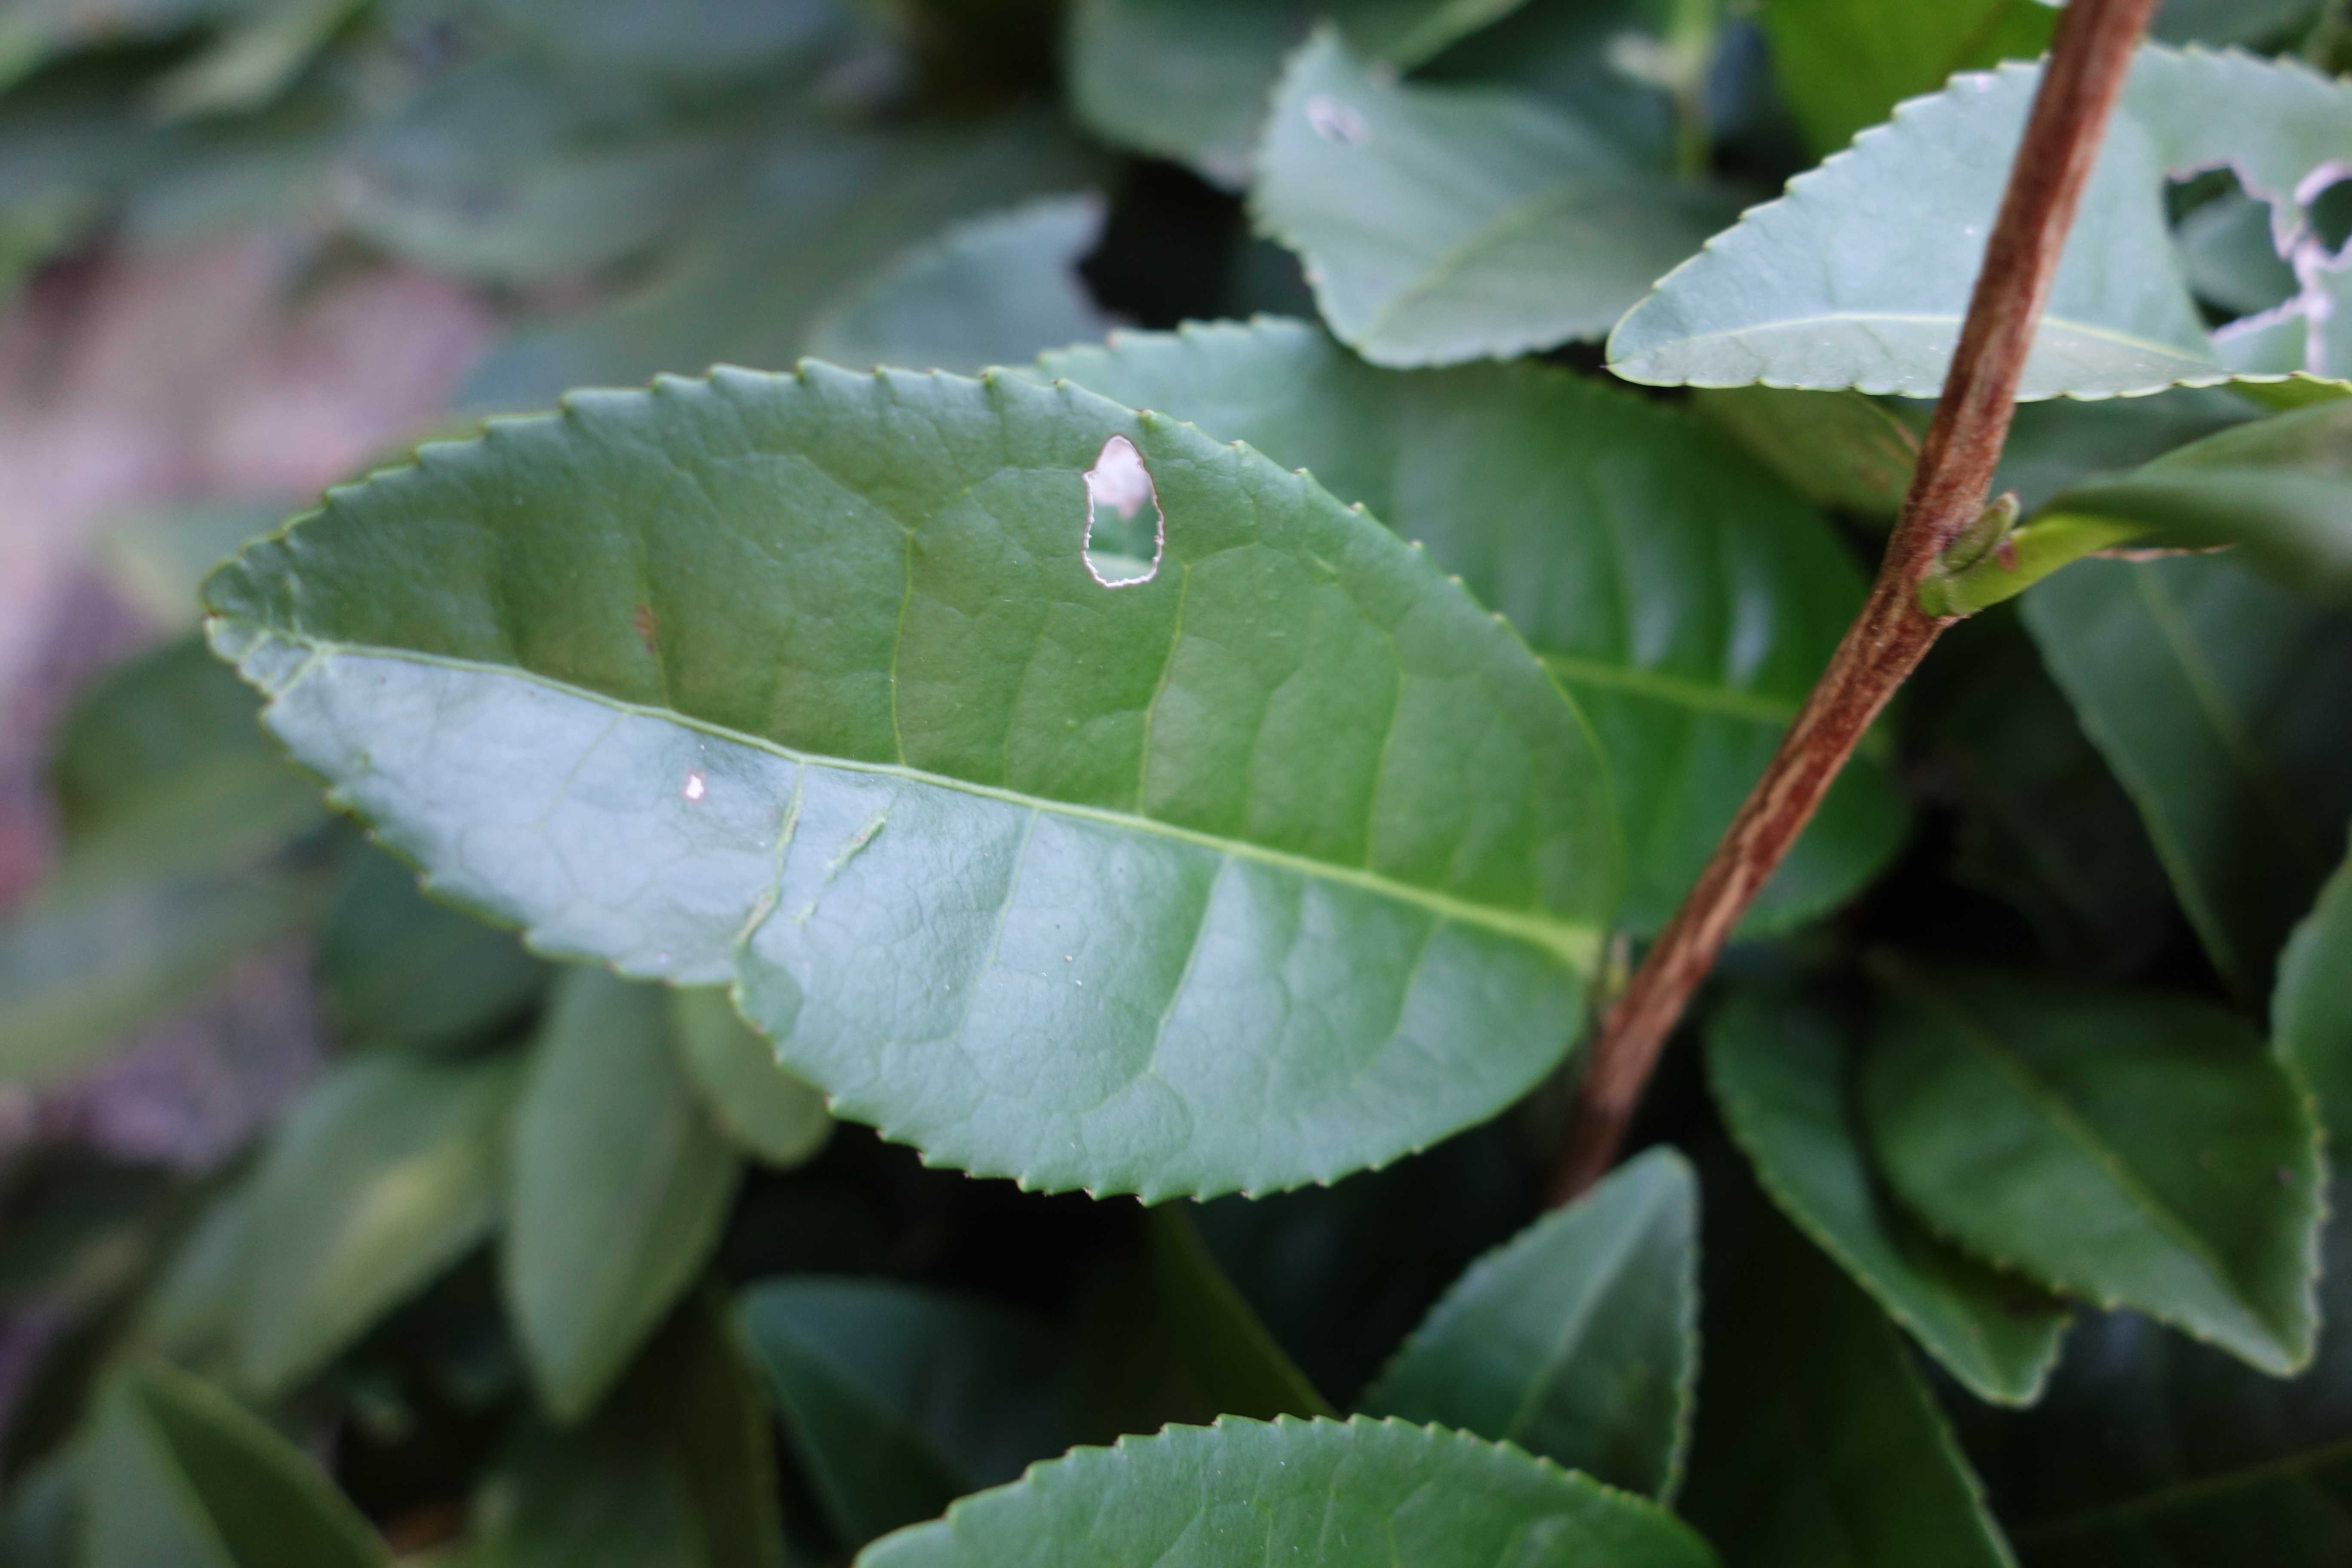chihuo_high: (1603, 37, 2350, 395)
chihuo_low: (194, 355, 1633, 1204)
